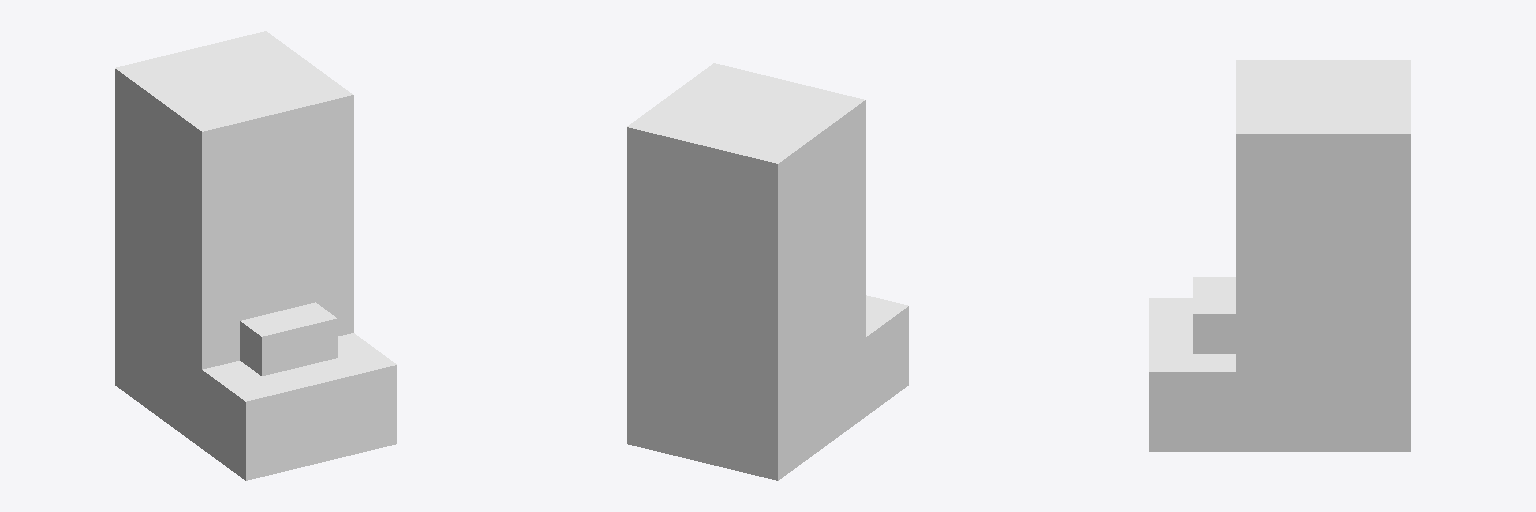
Rendered from Large_greenguy-1.obj.
The picture shows the model from 3 angles: view 1: azimuth 30°, elevation 25°; view 2: azimuth 150°, elevation 25°; view 3: azimuth 270°, elevation 25°; orthographic projection.
Visible parts, largest first — view 1: object 1; view 2: object 1; view 3: object 1.
Boxes of the visible parts, <box> form: object 1: <box>115,31,396,480</box>; object 1: <box>627,63,908,480</box>; object 1: <box>1149,60,1410,451</box>.
Size of the model in its own units: 0.4 by 0.8 by 0.6.